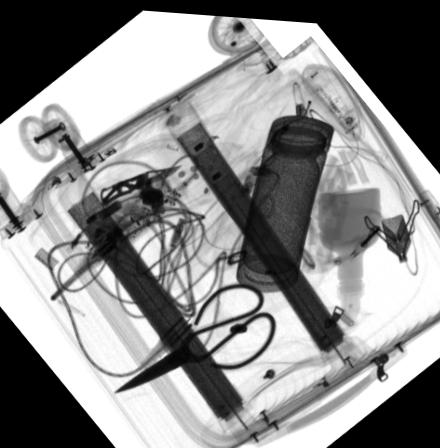Knife: (99, 161, 182, 207)
Scissors: (112, 278, 279, 393)
